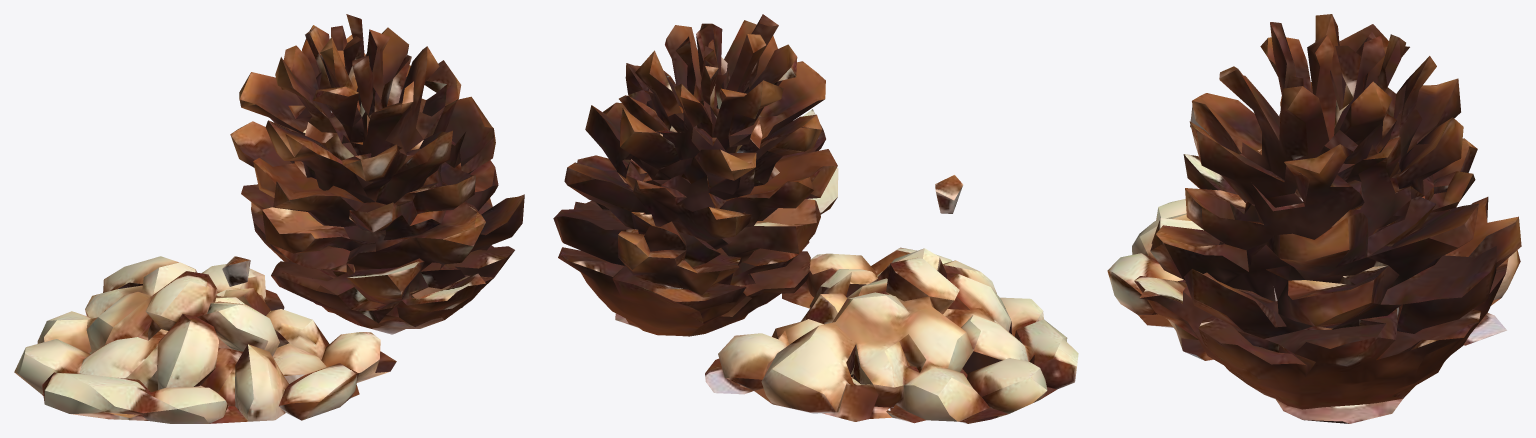
The model's file is pine_nut.glb.
3 views of the same model, side by side, from view 1: azimuth 30°, elevation 25°; view 2: azimuth 150°, elevation 25°; view 3: azimuth 270°, elevation 25° (orthographic). The views are drawn at different scales.
Visible parts, largest first — view 1: item_pine_nut; view 2: item_pine_nut; view 3: item_pine_nut.
Part boxes in pixels (x1,y1,x2,y2): item_pine_nut: (14, 14, 524, 423); item_pine_nut: (553, 14, 1078, 423); item_pine_nut: (1107, 14, 1521, 423).
Size of the model in its own units: 1 by 0.5878 by 0.6477.
Materials: 1 (1 with a texture image).
